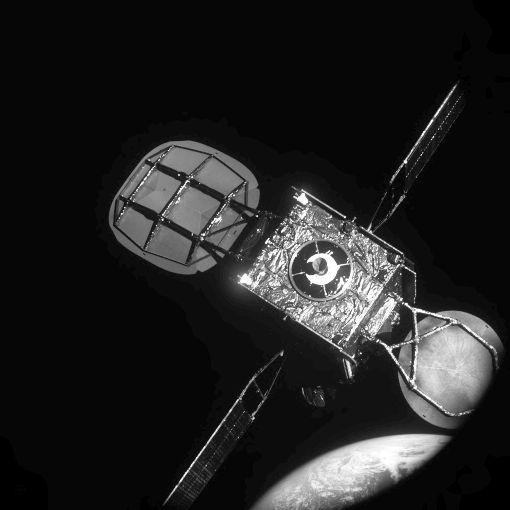antenna: (139, 249, 276, 402), (308, 3, 431, 115)
body: (186, 92, 381, 277)
solar: (375, 243, 510, 351), (80, 41, 195, 127), (381, 169, 409, 210)
thruster: (257, 182, 276, 197)
